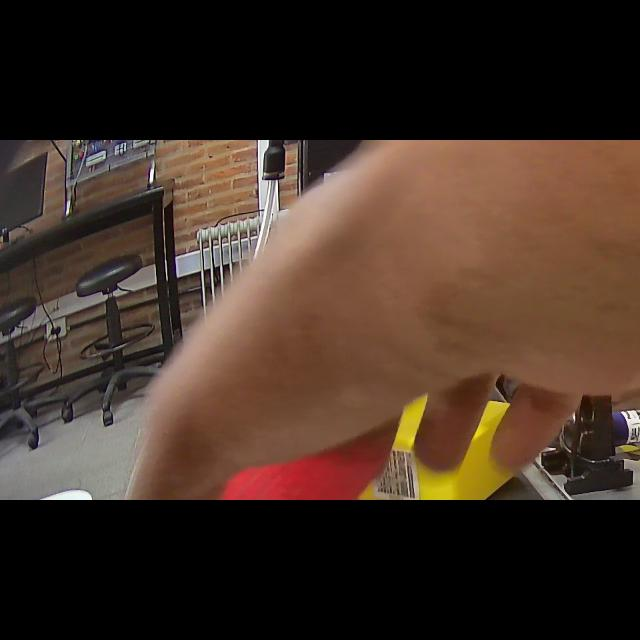redBox: (88, 398, 406, 500)
yellowBox: (359, 374, 537, 500)
